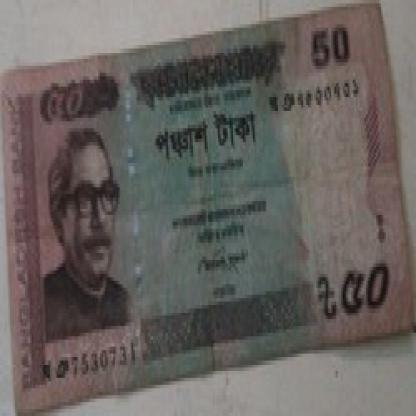Fifty taka: (326, 267, 390, 329), (35, 76, 98, 128)
